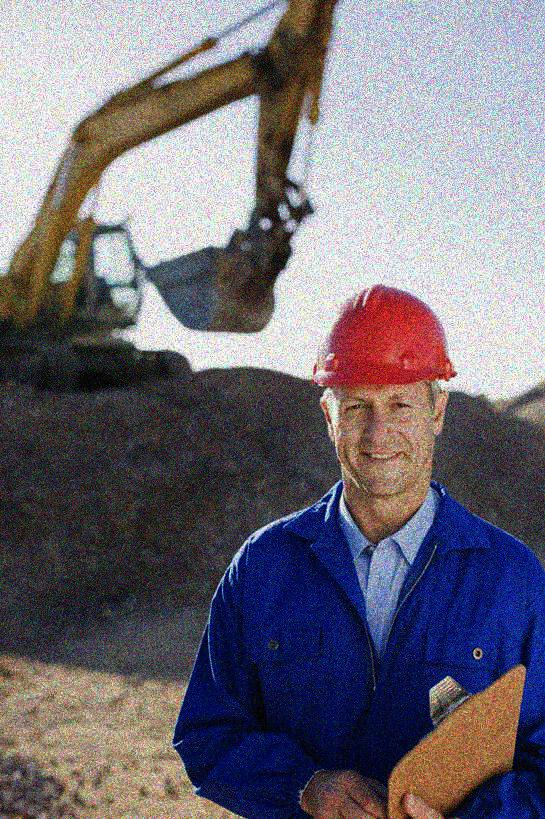helmet: (309, 286, 464, 496)
